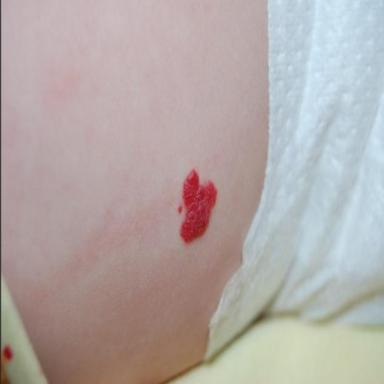Hemangiome: (181, 169, 217, 242), (178, 206, 182, 214)
